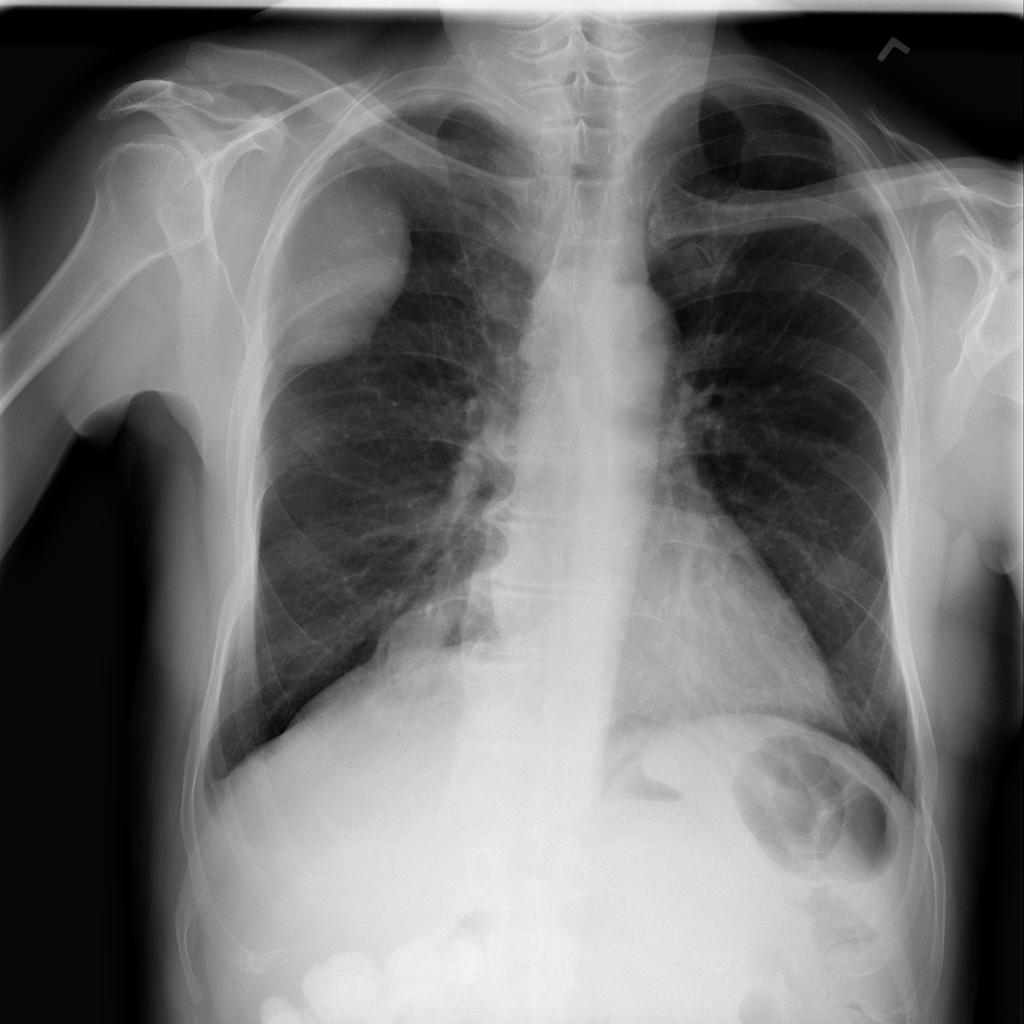nodule: (269, 159, 437, 371)
